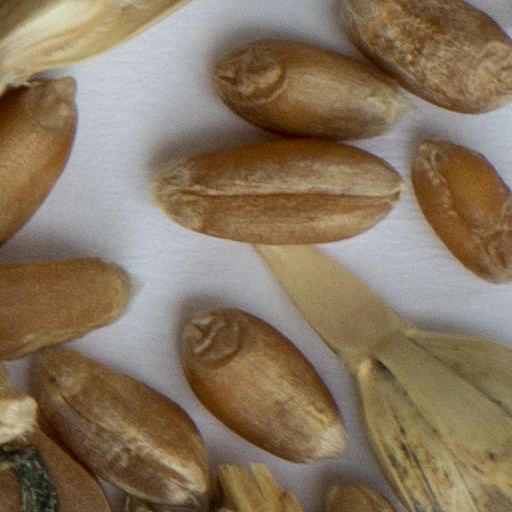Peel-poly: (0, 0, 188, 91)
